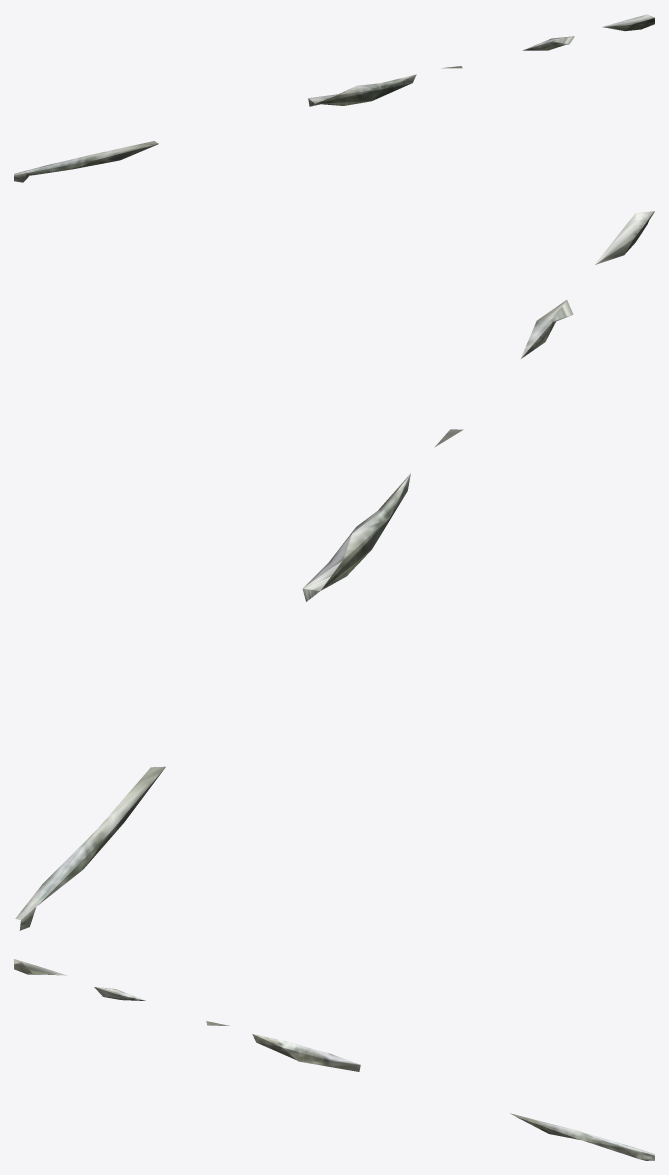
The picture shows the model from 3 angles, top to bottom: view 1: azimuth 90°, elevation 25°; view 2: azimuth 150°, elevation 25°; view 3: azimuth 270°, elevation 25°; orthographic projection. The views are drawn at different scales.
Bounding box in the file's own units: 0.4614 × 1.86 × 5.9.
1 material, 1 textured.
